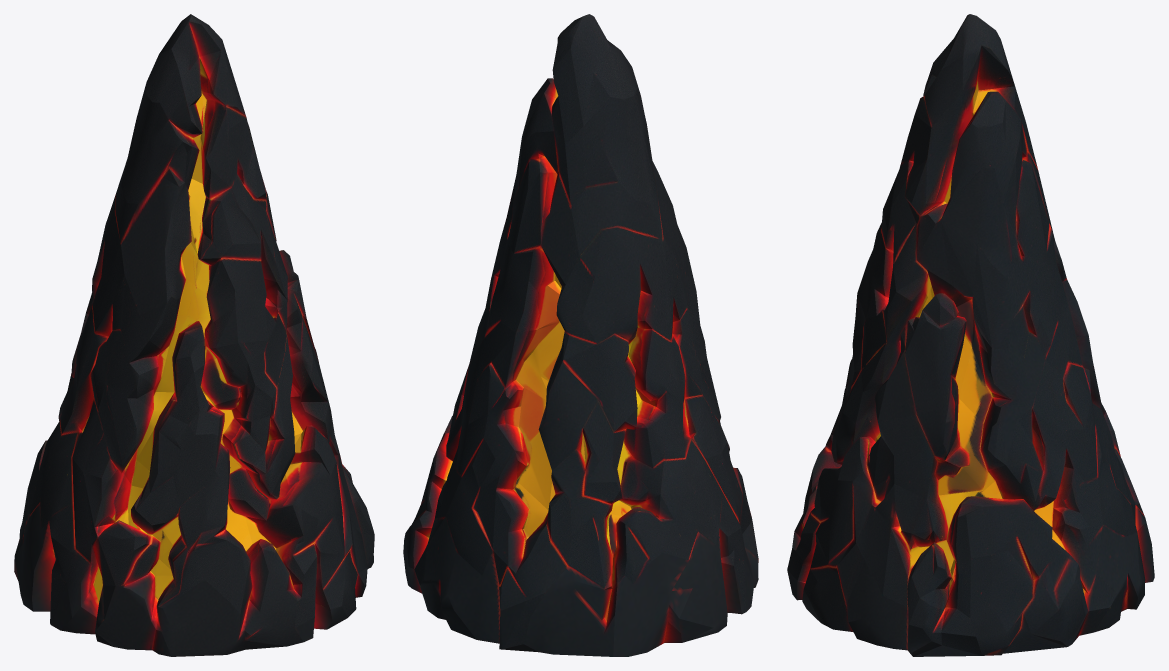
The model's file is lava_rock.glb.
3 renders of one model, left to right at view 1: azimuth 30°, elevation 25°; view 2: azimuth 150°, elevation 25°; view 3: azimuth 270°, elevation 25°, orthographic.
Size of the model in its own units: 1.08 by 1.9 by 1.11.
Materials: 1 (1 with a texture image).
